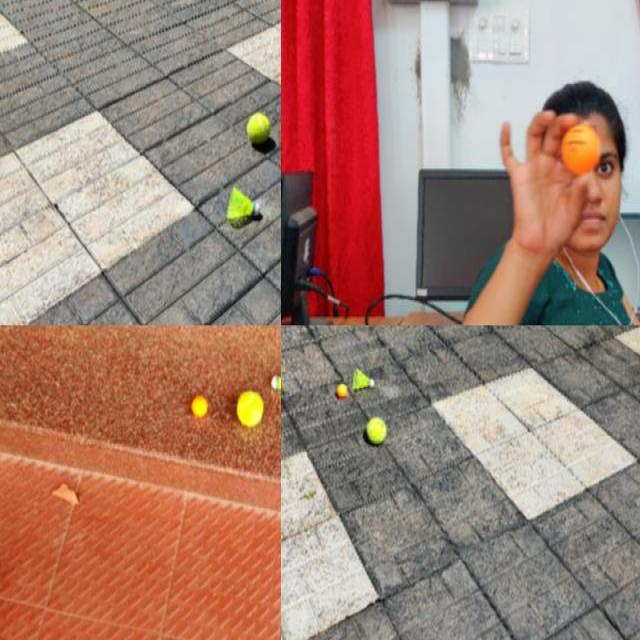ping-pong-ball: (560, 125, 598, 173), (192, 397, 206, 416), (336, 383, 346, 398)
